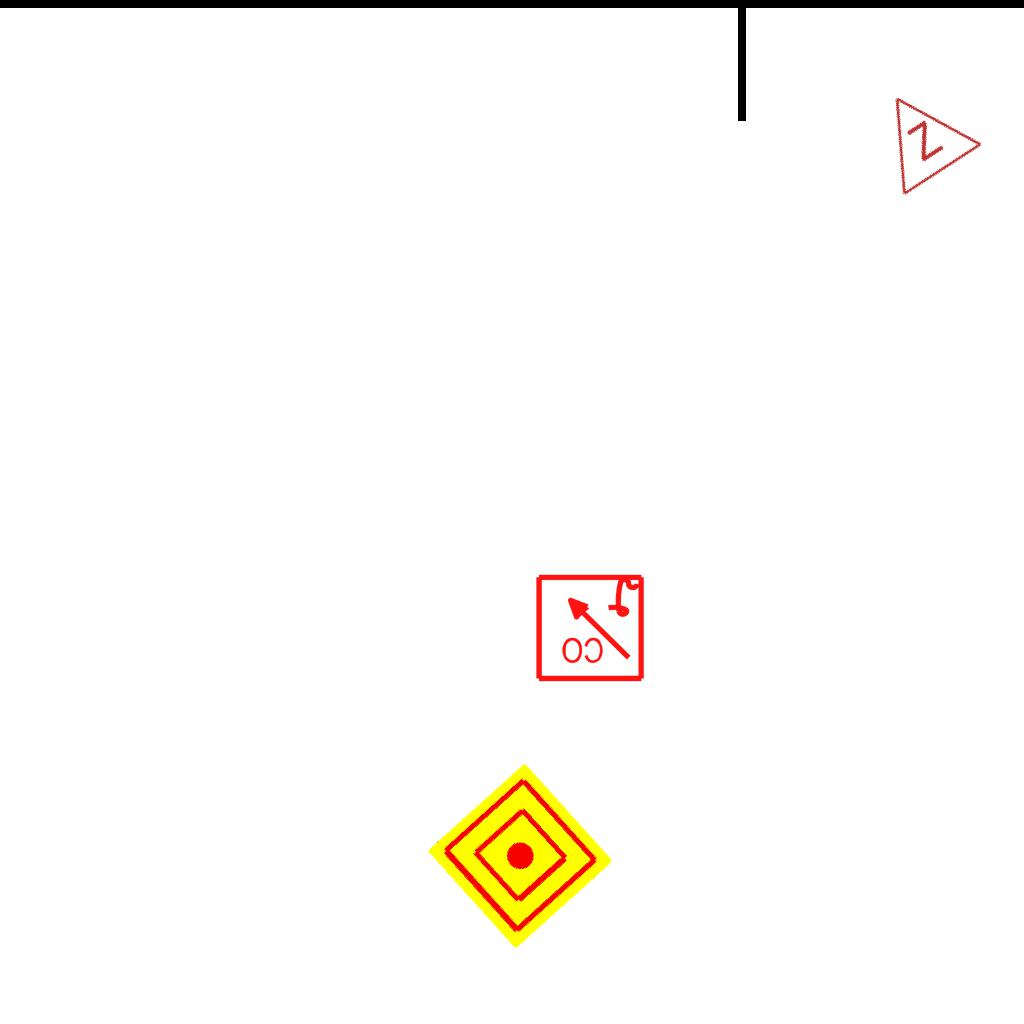NAM-Nichtautomatischer_Melder: (426, 762, 614, 950)
ROA_Rauchmelder_optisch_mit_Signalgeber_(Sockelsirene): (533, 570, 646, 683)
Zimmersignalleuchte: (850, 66, 988, 204)
